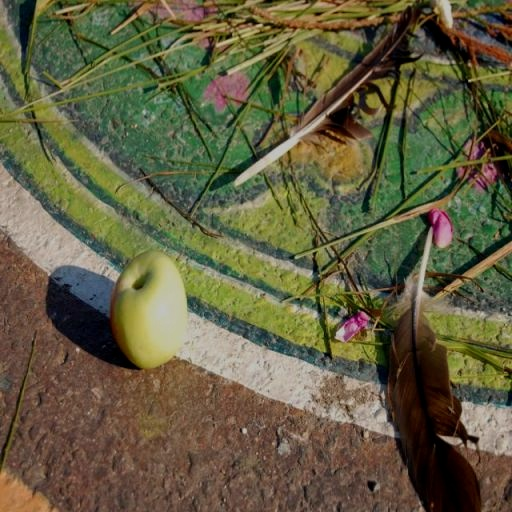fruit: (110, 251, 186, 368)
